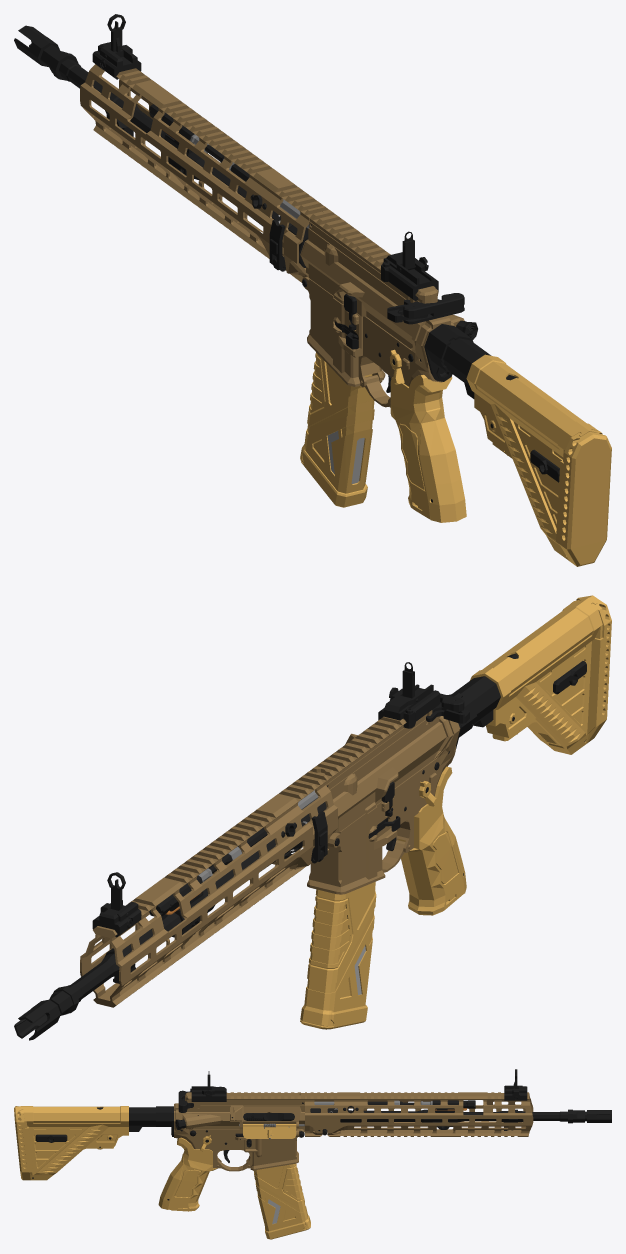
3 views of the same model, one above another, from view 1: azimuth 30°, elevation 25°; view 2: azimuth 150°, elevation 25°; view 3: azimuth 270°, elevation 25° (orthographic). The views are drawn at different scales.
Visible parts, largest first — view 1: body, mag, charging; view 2: body, mag, charging; view 3: body, mag.
Boxes of the visible parts, x1=… form: body: x1=14, y1=14, x2=611, y2=566; mag: x1=300, y1=352, x2=374, y2=507; charging: x1=387, y1=293, x2=464, y2=324; body: x1=14, y1=595, x2=611, y2=1040; mag: x1=300, y1=882, x2=376, y2=1029; charging: x1=426, y1=693, x2=469, y2=723; body: x1=14, y1=1069, x2=611, y2=1211; mag: x1=253, y1=1163, x2=310, y2=1239.
Size of the model in its own units: 0.0727 by 0.2749 by 0.8904.
